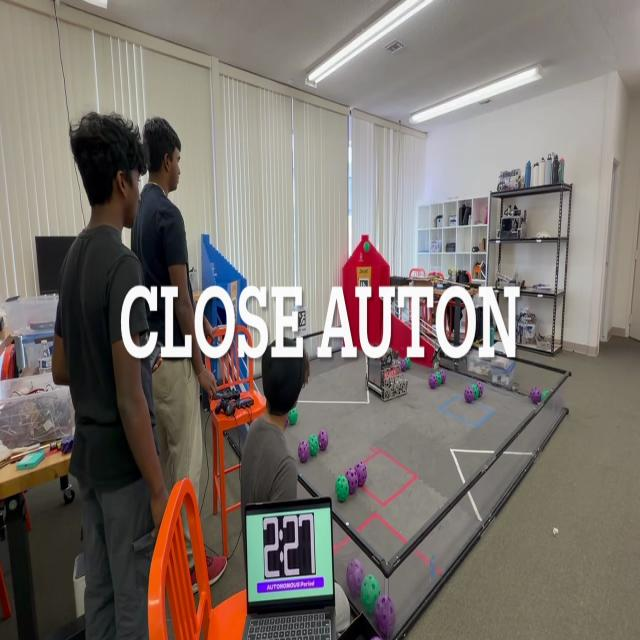artifact_green: (361, 575, 380, 614), (335, 475, 349, 502), (308, 435, 320, 457), (298, 441, 309, 463), (464, 386, 474, 403), (289, 408, 298, 425), (471, 384, 479, 399), (476, 382, 483, 397), (435, 372, 442, 385), (440, 369, 446, 383), (405, 356, 411, 370), (400, 359, 406, 372), (364, 241, 370, 252), (542, 391, 549, 400), (286, 417, 289, 427)
artifact_purple: (374, 595, 395, 638), (346, 560, 364, 596), (345, 468, 358, 494), (355, 461, 367, 487), (298, 441, 310, 463), (318, 430, 328, 451), (530, 387, 541, 404), (464, 387, 474, 403), (429, 374, 437, 389), (477, 382, 483, 397), (440, 370, 446, 383), (401, 359, 406, 372), (286, 418, 289, 427), (372, 636, 381, 639)
